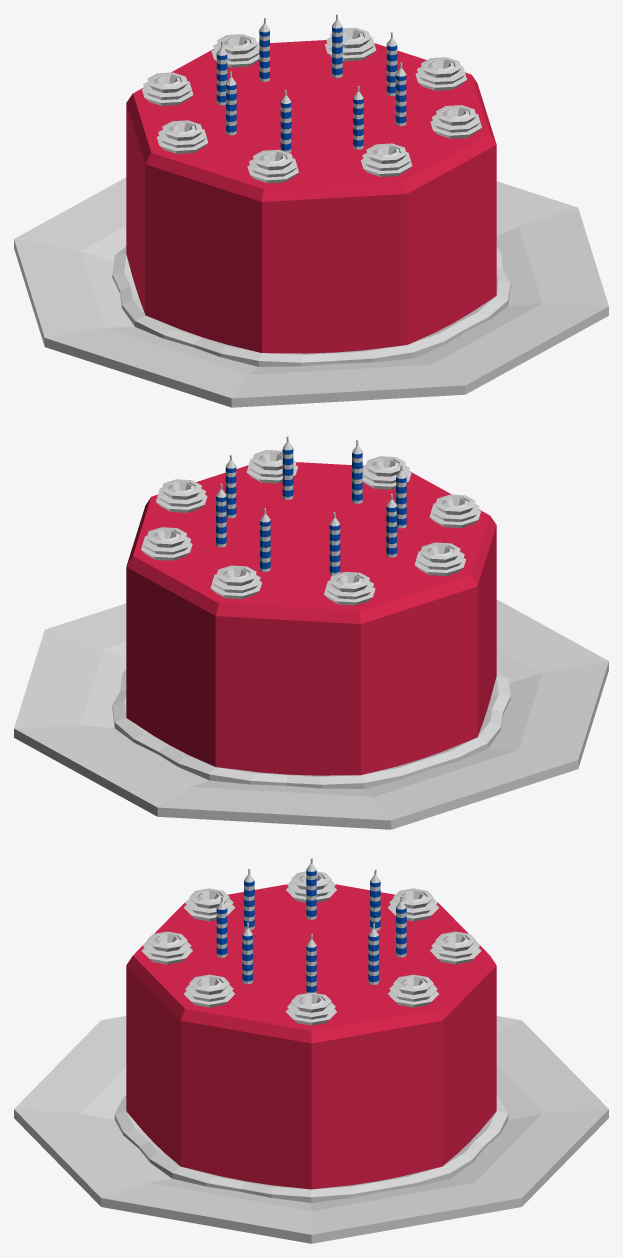
The model's file is Cake.fbx.
3 renders of one model, top to bottom at view 1: azimuth 30°, elevation 25°; view 2: azimuth 150°, elevation 25°; view 3: azimuth 270°, elevation 25°, orthographic. The views are drawn at different scales.
Visible parts, largest first — view 1: Circle.006; view 2: Circle.006; view 3: Circle.006.
Part boxes in pixels (x1,y1,x2,y2): Circle.006: (14, 14, 608, 407); Circle.006: (14, 436, 608, 829); Circle.006: (14, 858, 608, 1243).
Bounding box in the file's own units: 21.8 × 9.92 × 21.8.
